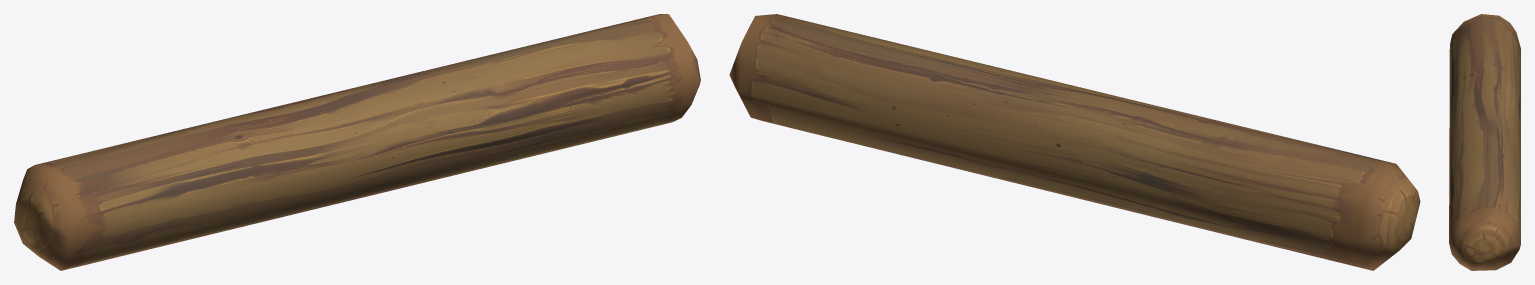
File: SM_MOD_basic_log_town_01.fbx
3 renders of one model, left to right at view 1: azimuth 30°, elevation 25°; view 2: azimuth 150°, elevation 25°; view 3: azimuth 270°, elevation 25°, orthographic. The views are drawn at different scales.
Parts seen in each view (by area): view 1: SM_MOD_basic_log_town_01_LOD0; view 2: SM_MOD_basic_log_town_01_LOD0; view 3: SM_MOD_basic_log_town_01_LOD0.
Part boxes in pixels (left/top/right/bottom): SM_MOD_basic_log_town_01_LOD0: left=14, top=14, right=700, bottom=270; SM_MOD_basic_log_town_01_LOD0: left=729, top=14, right=1420, bottom=270; SM_MOD_basic_log_town_01_LOD0: left=1449, top=14, right=1520, bottom=270.
Size of what is drawn, in the model's own units: 300 by 42.38 by 43.91.
